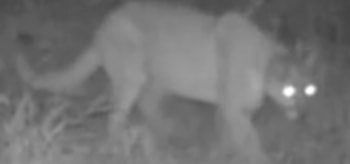Mountain Lion: (10, 4, 337, 158)
